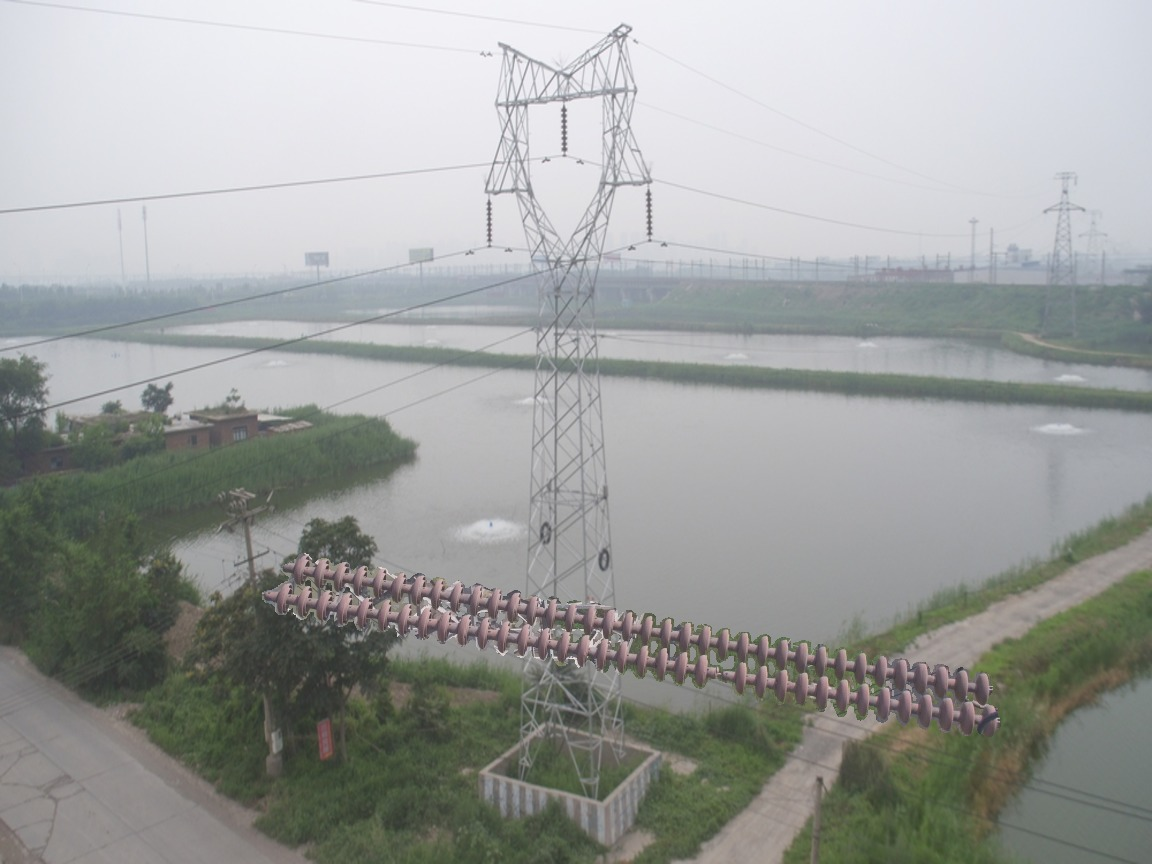defect: (687, 650, 757, 695)
